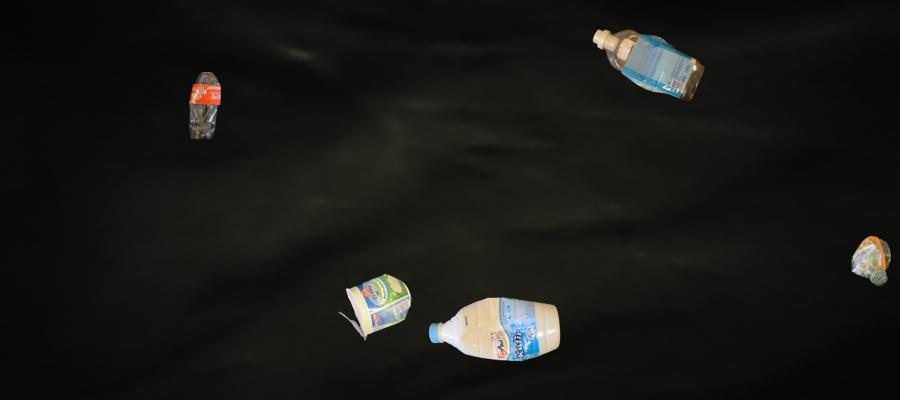PP: (426, 295, 562, 363), (590, 27, 706, 103), (741, 233, 894, 287), (335, 271, 413, 343), (188, 72, 222, 140)
